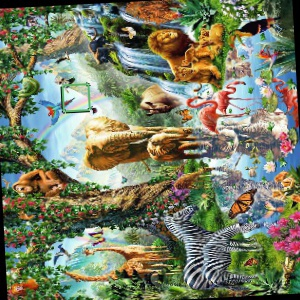square: (58, 81, 94, 115)
